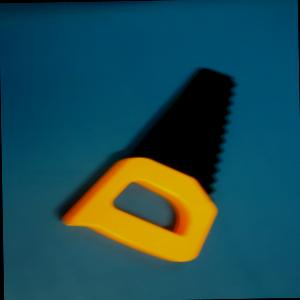serrote: (57, 67, 239, 264)
